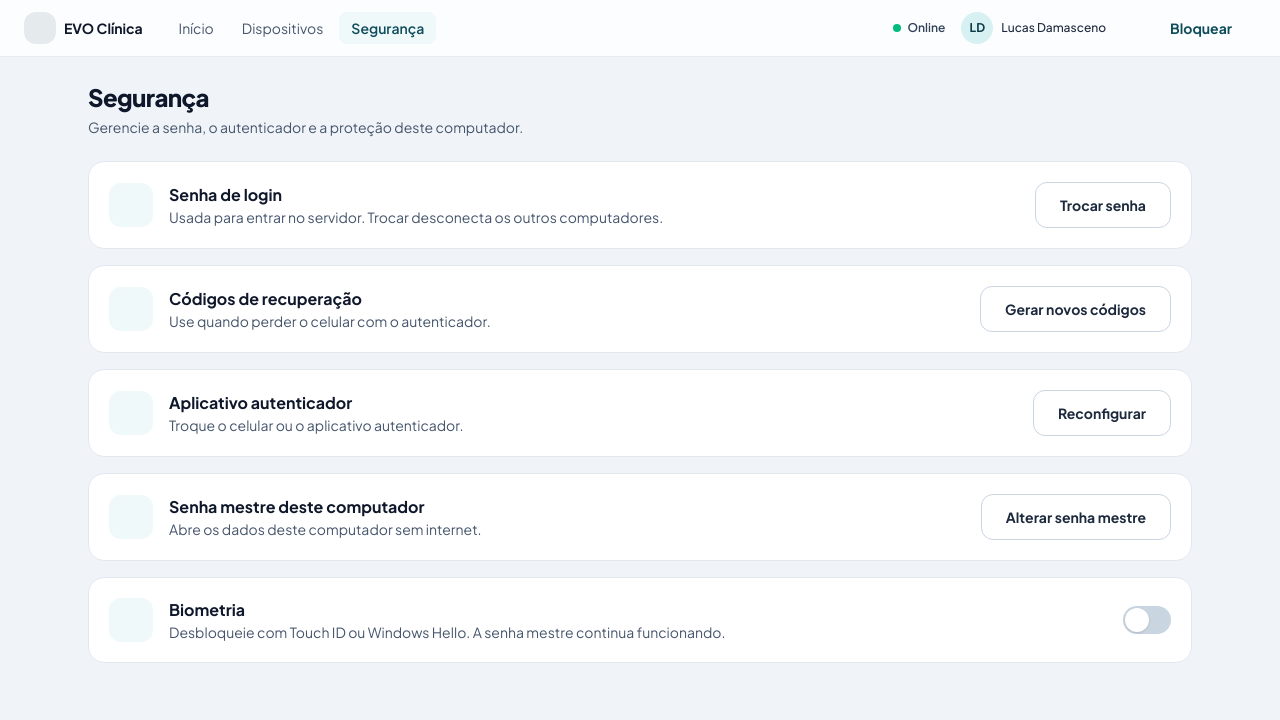
SegurancaTela › códigos de recuperação › código incompleto bloqueia o envio
Click the button "Gerar novos códigos".
click(1076, 309)  # box top-left (980, 286), bottom-right (1171, 332)
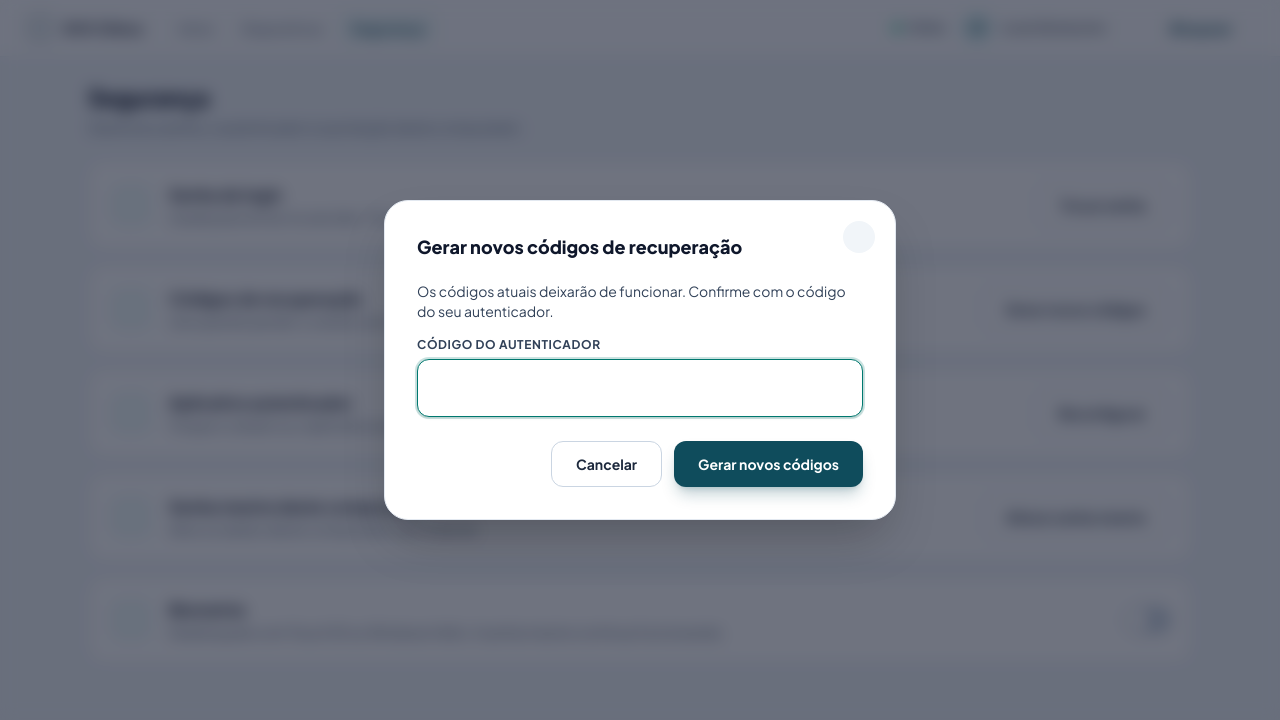
Type "123" into the field labelled "Código do autenticador".
click(640, 388); type("123")  # box top-left (417, 359), bottom-right (863, 417)
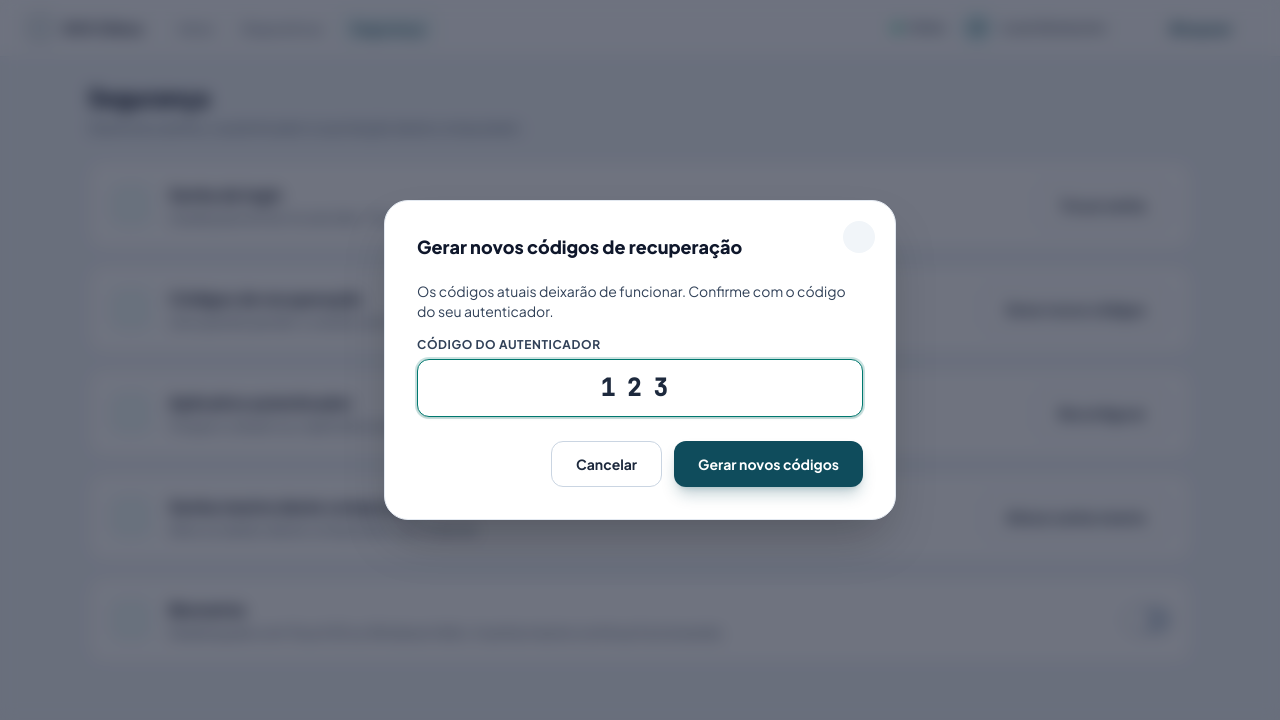
Click the button "Gerar novos códigos".
click(769, 464)  # box top-left (674, 441), bottom-right (863, 487)
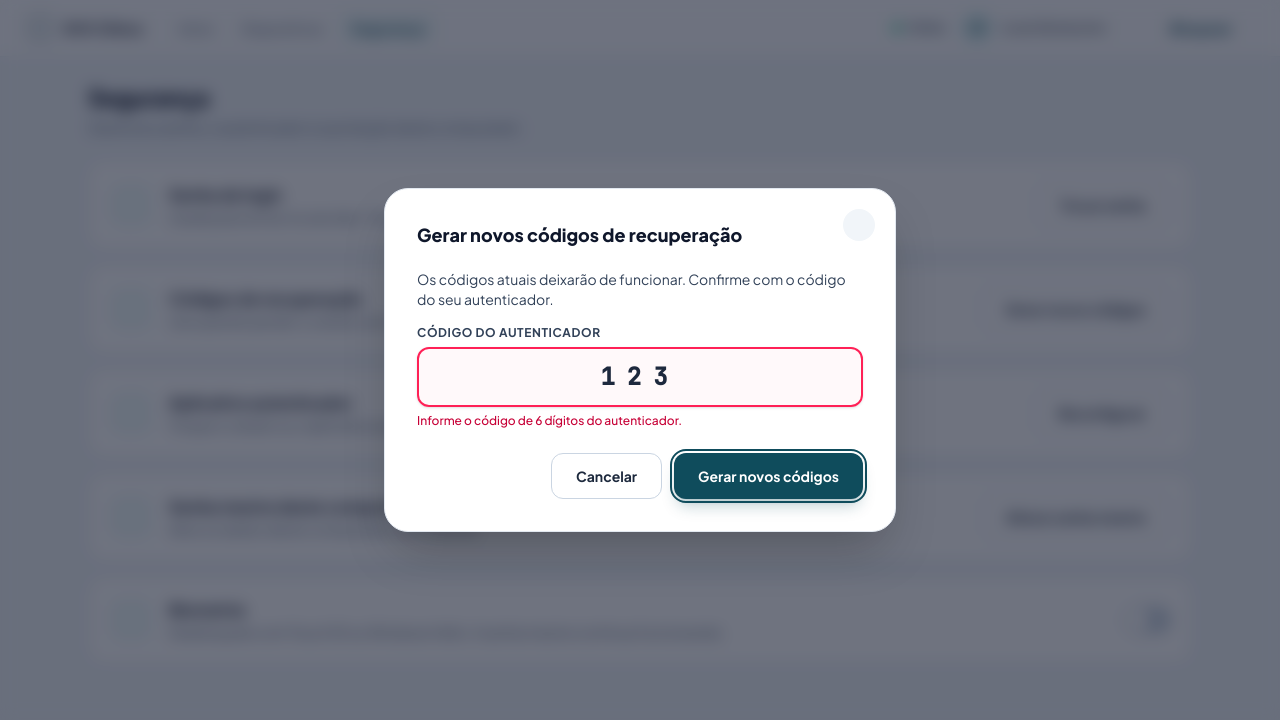
expect the text "Informe o código de 6 dígitos do autenticador." is shown: met, box top-left (417, 413), bottom-right (682, 428)
